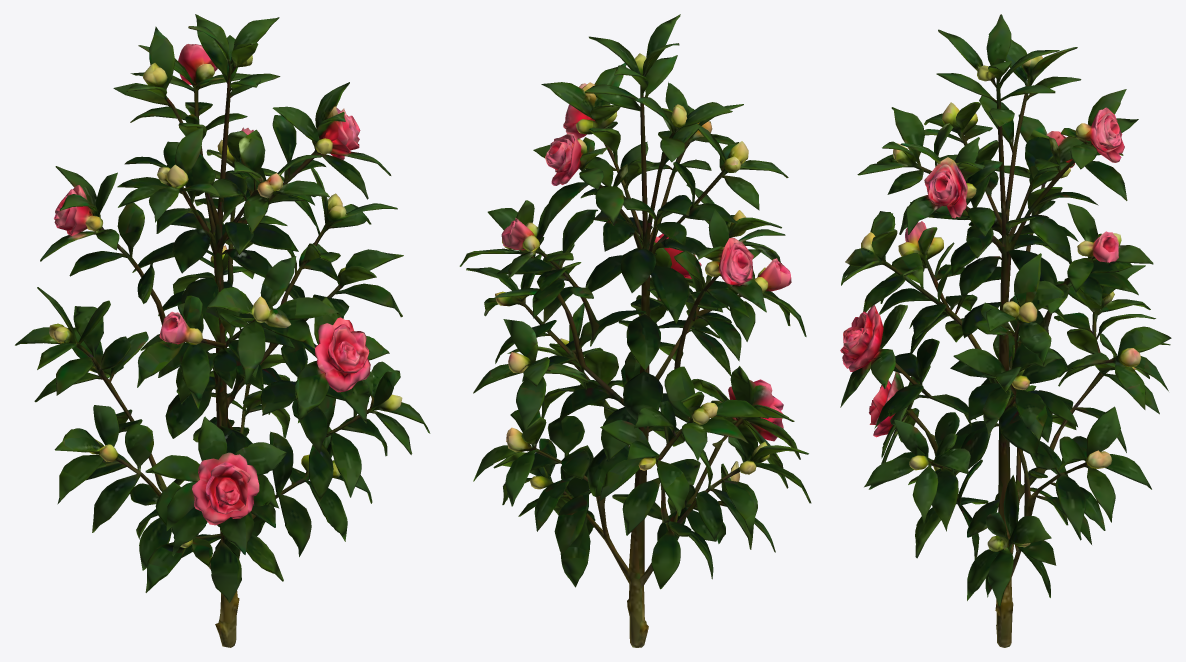
File: ChaHua.glb
3 views of the same model, side by side, from view 1: azimuth 30°, elevation 25°; view 2: azimuth 150°, elevation 25°; view 3: azimuth 270°, elevation 25° (orthographic). The views are drawn at different scales.
Parts seen in each view (by area): view 1: tripo_node_eae7d127-f551-47de-946a-3ad6e32e9420; view 2: tripo_node_eae7d127-f551-47de-946a-3ad6e32e9420; view 3: tripo_node_eae7d127-f551-47de-946a-3ad6e32e9420.
Part boxes in pixels (x1,y1,x2,y2): tripo_node_eae7d127-f551-47de-946a-3ad6e32e9420: (15, 14, 430, 647); tripo_node_eae7d127-f551-47de-946a-3ad6e32e9420: (459, 14, 811, 647); tripo_node_eae7d127-f551-47de-946a-3ad6e32e9420: (840, 14, 1171, 647).
Bounding box in the file's own units: 0.5716 × 0.9823 × 0.481.
Materials: 1 (1 with a texture image).
